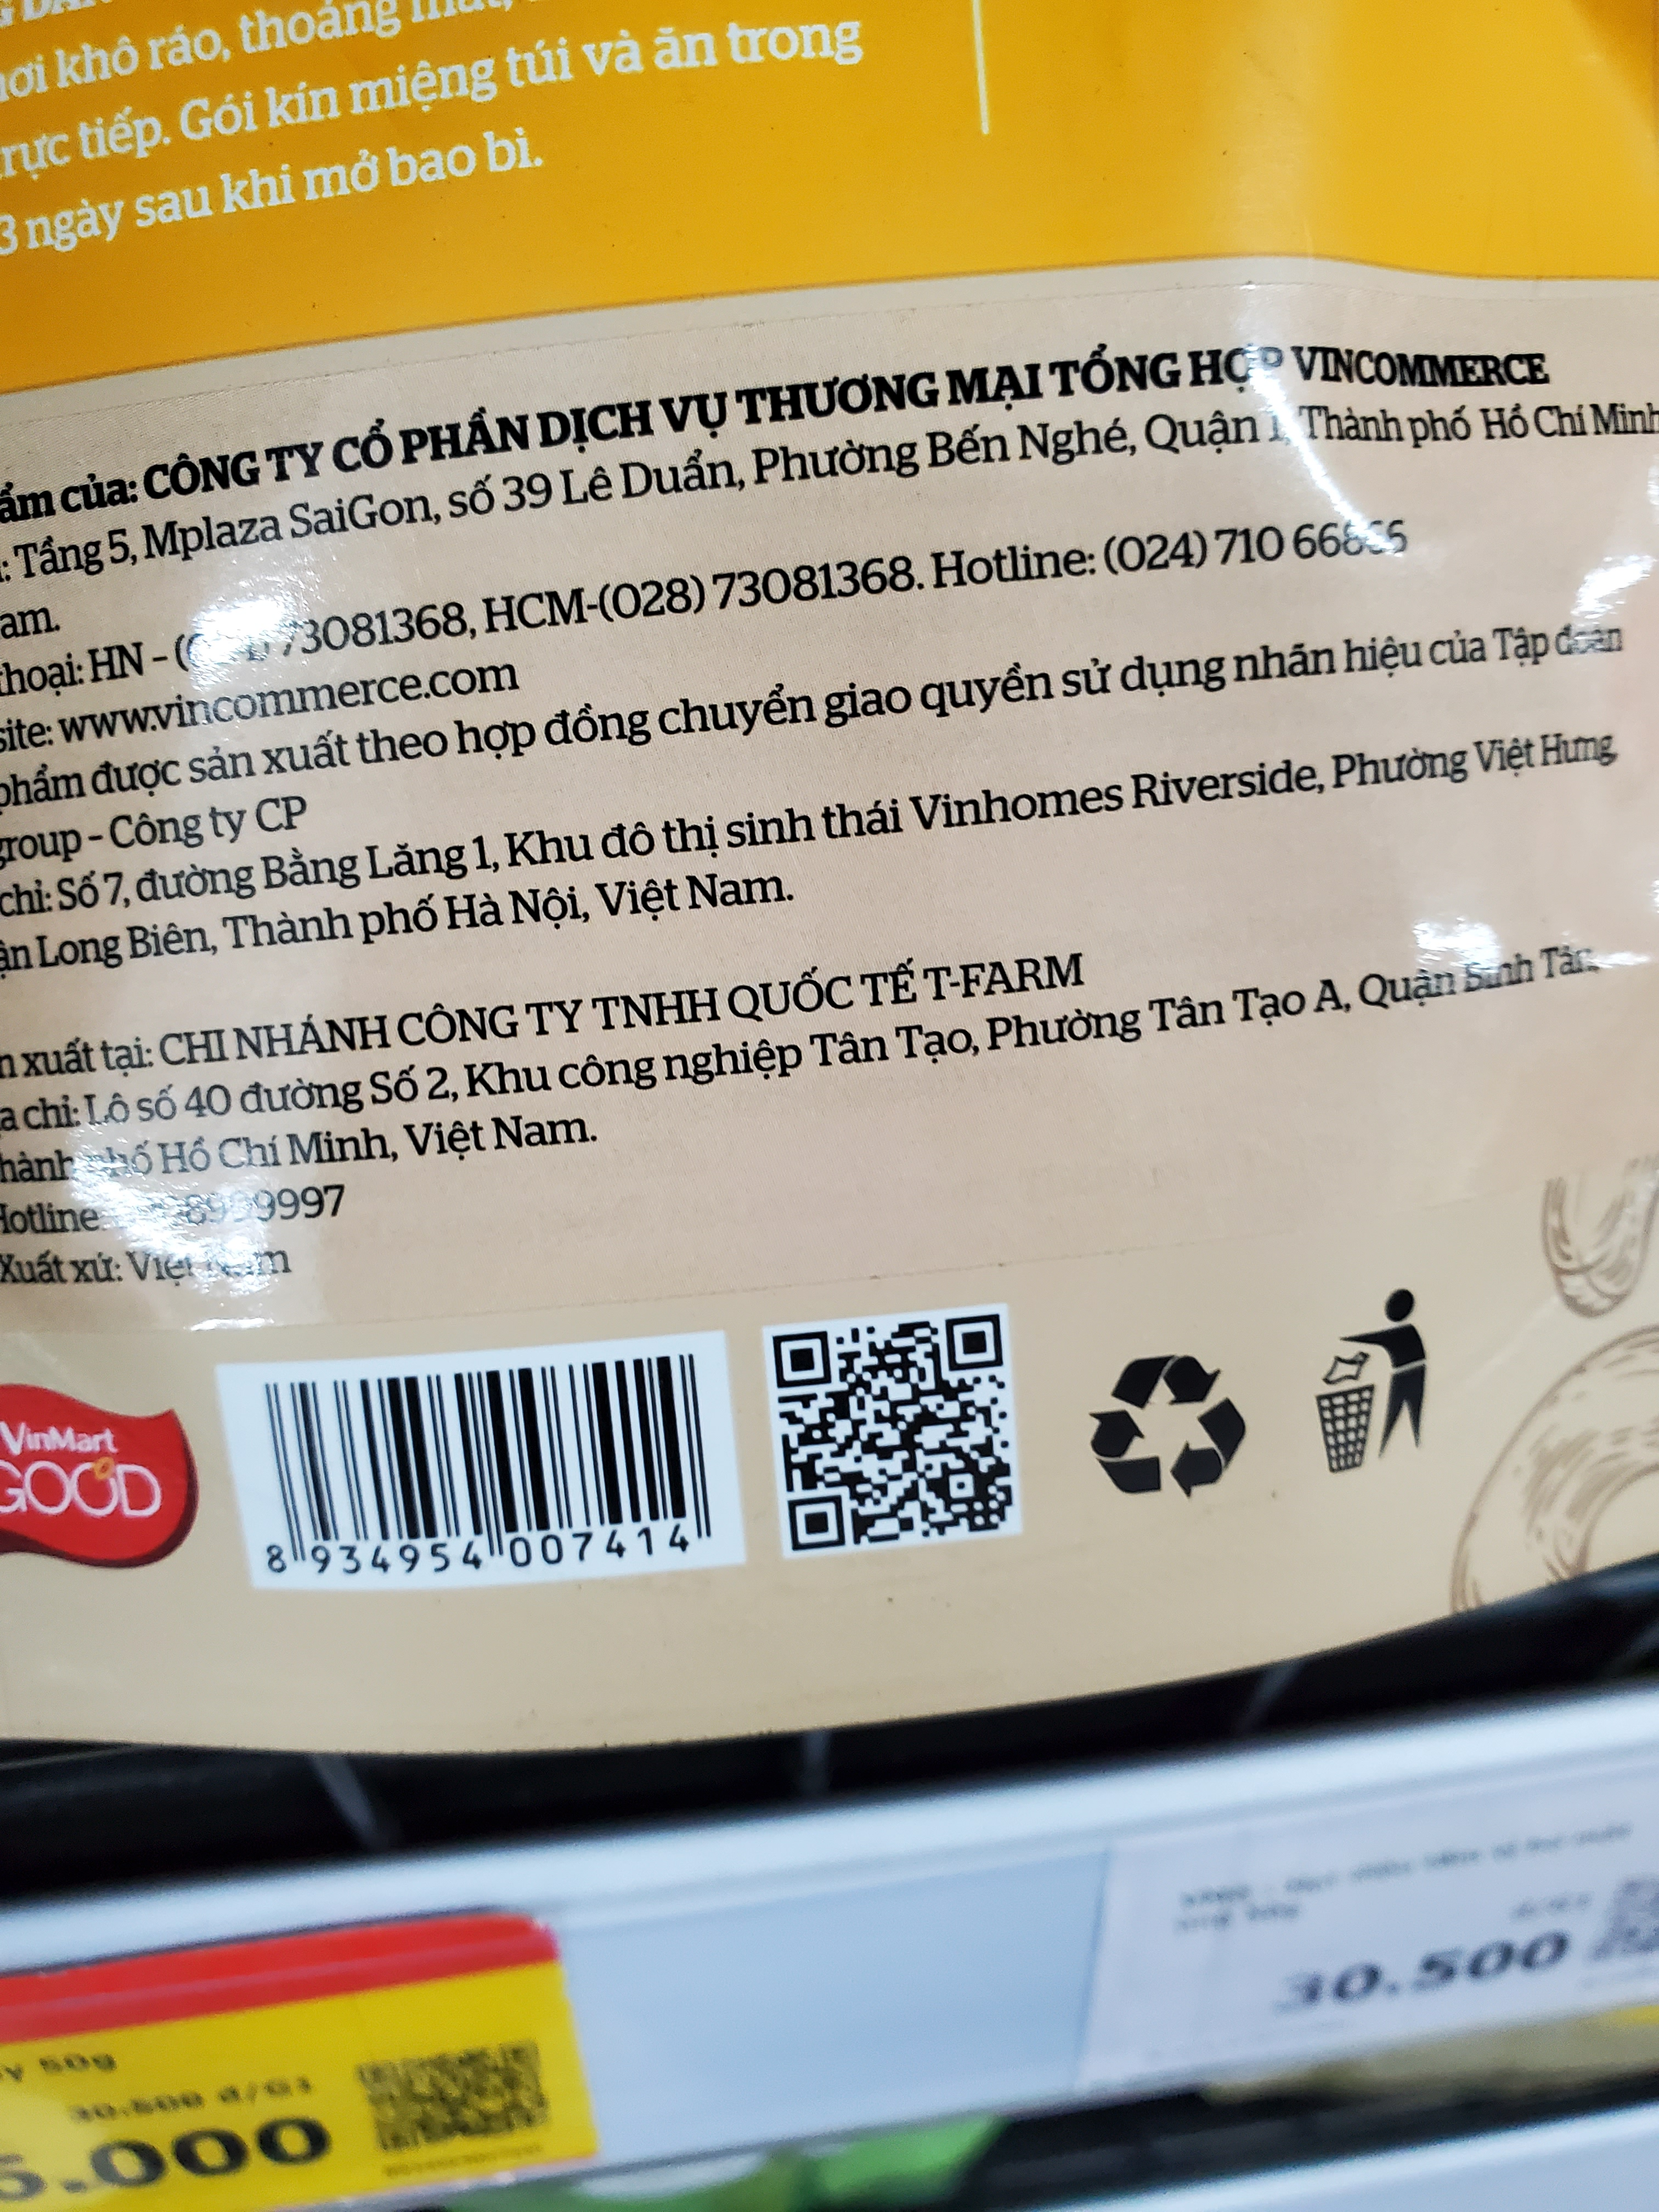barcode: (197, 1320, 744, 1599)
qr code: (744, 1277, 1047, 1566)
